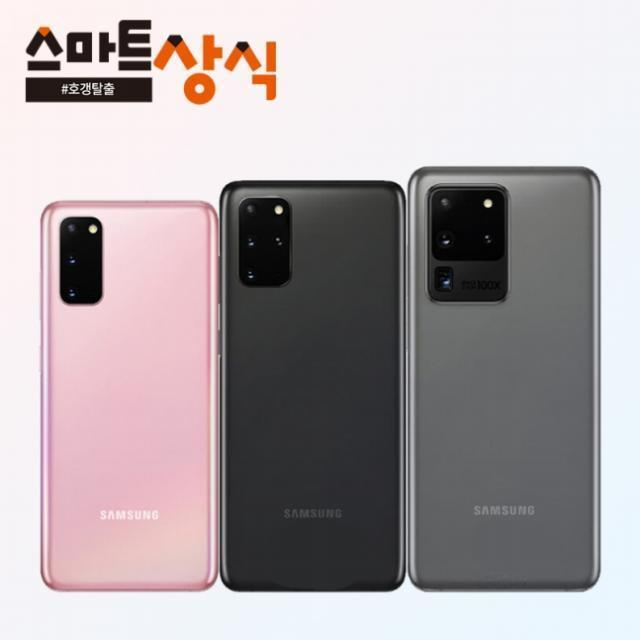phone: (410, 166, 600, 594), (218, 179, 407, 592), (41, 196, 218, 594)
